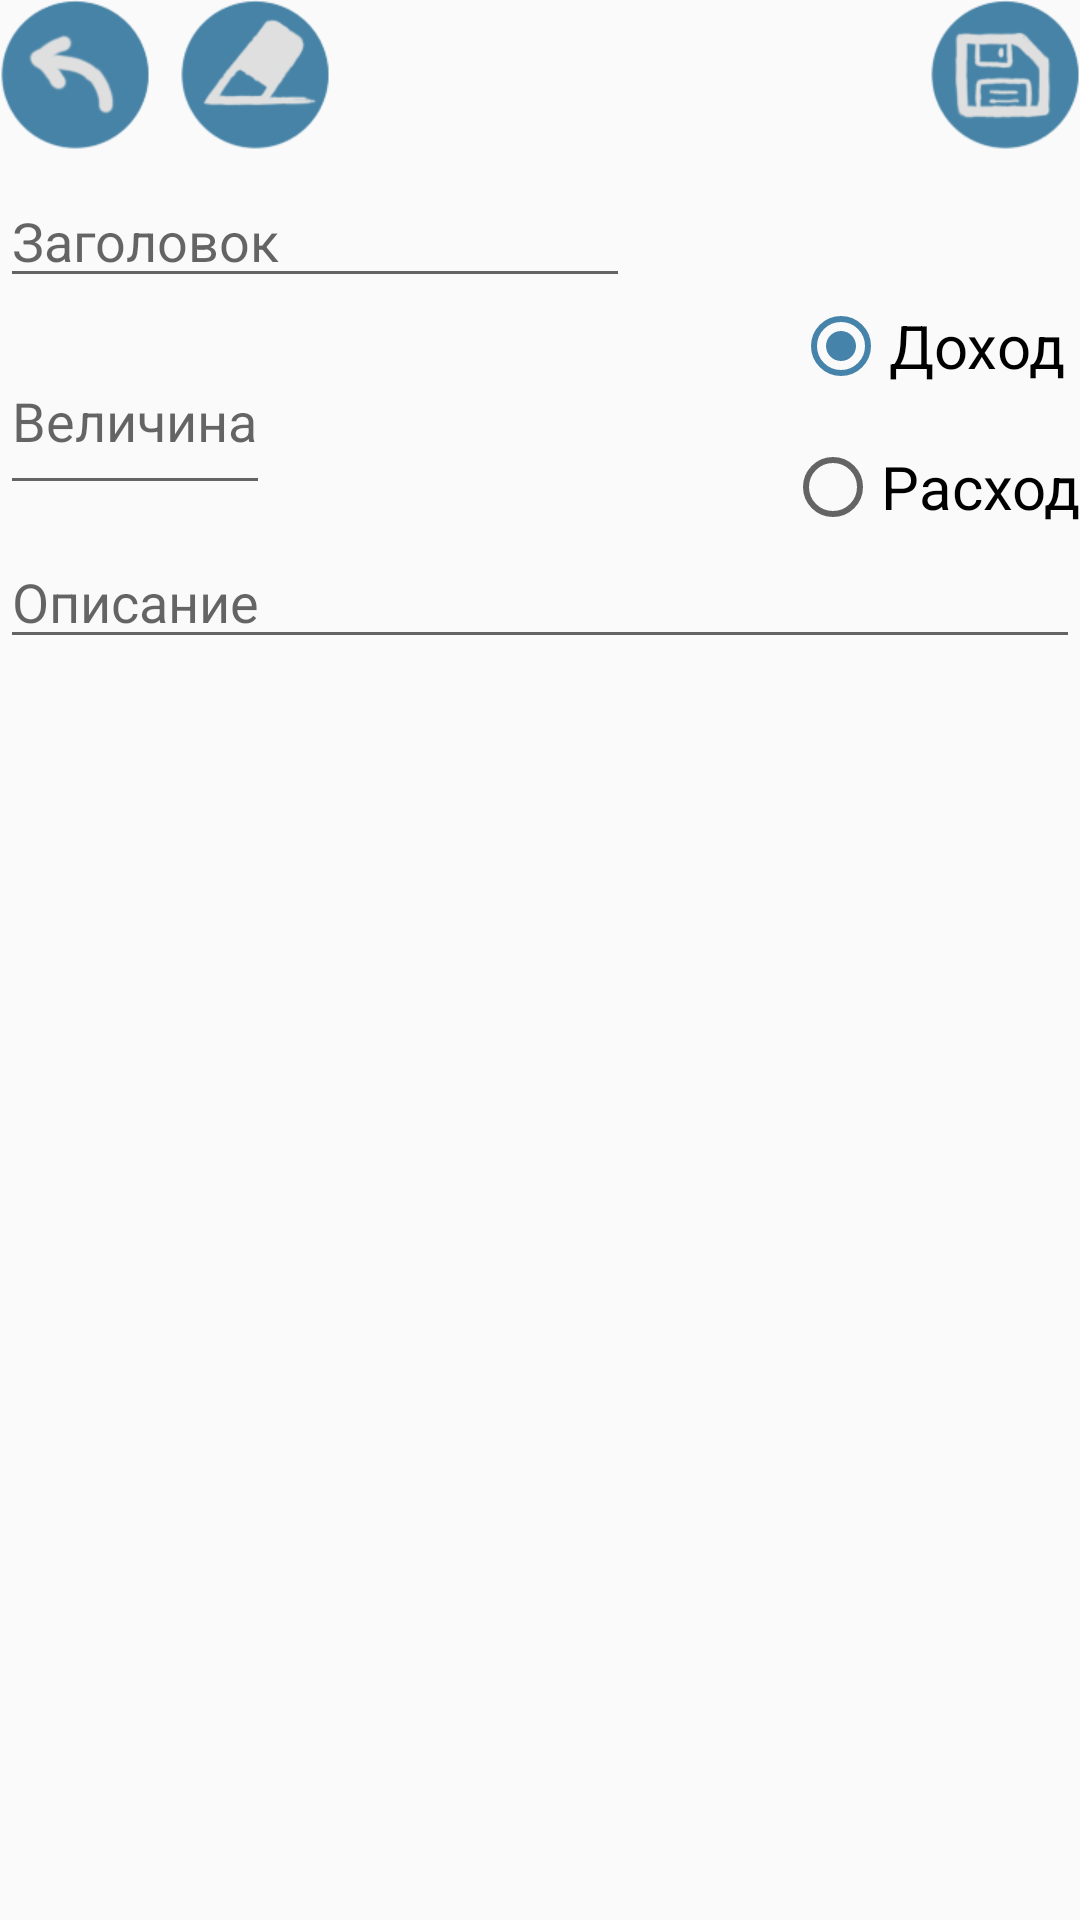

Icons on this 1080w x 1920h Android screen, each with its box as (x1, y1, x2, y2):
lastik: (181, 1, 329, 149)
nazad: (1, 1, 149, 149)
skhranit: (931, 1, 1079, 149)
